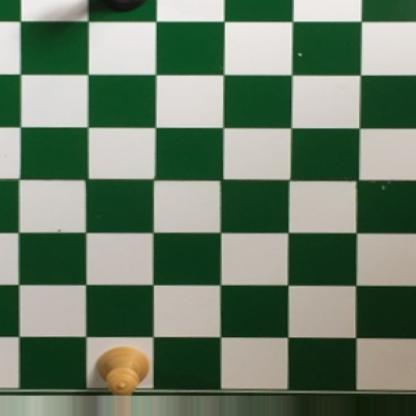black-queen: (93, 0, 154, 15)
white-queen: (94, 343, 153, 397)
